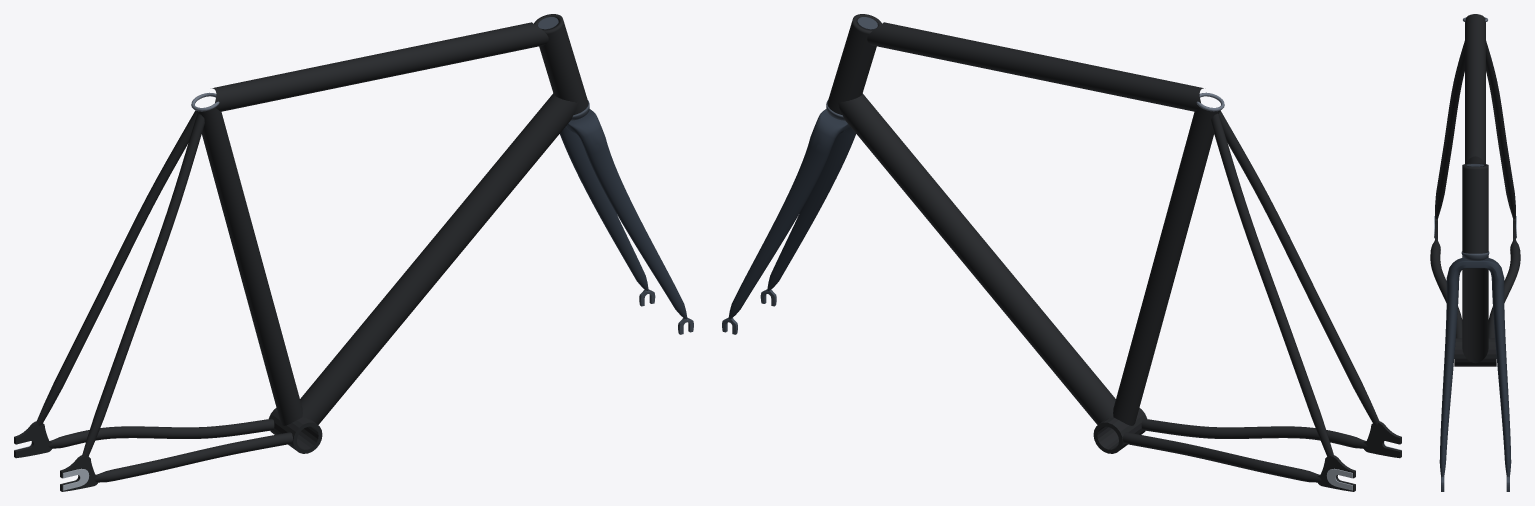
Rendered from dosnoventa-02-la-m.glb.
3 renders of one model, left to right at view 1: azimuth 30°, elevation 25°; view 2: azimuth 150°, elevation 25°; view 3: azimuth 270°, elevation 25°, orthographic. The views are drawn at different scales.
Parts seen in each view (by area): view 1: paint_down, paint_top, paint_seat, paint_seatstay_1, paint_seatstay_-1, fork_blade_1, fork_blade_-1, paint_chainstay_-1, paint_head, paint_chainstay_1, paint_bottom_bracket, rear_dropout_-1 (+1 smaller); view 2: paint_down, paint_top, paint_seat, paint_seatstay_-1, paint_seatstay_1, fork_blade_-1, fork_blade_1, paint_chainstay_1, paint_head, paint_chainstay_-1, paint_bottom_bracket, rear_dropout_1 (+1 smaller); view 3: paint_top, paint_down, paint_head, fork_blade_1, fork_blade_-1, paint_seatstay_-1, paint_seatstay_1, fork_crown, paint_chainstay_-1, paint_chainstay_1, paint_bottom_bracket, fork_headset_lower.
Part boxes in pixels (box(x1,y1,x2,y2)): paint_down: box(300, 93, 577, 424); paint_top: box(212, 22, 548, 111); paint_seat: box(195, 107, 302, 425); paint_seatstay_1: box(82, 113, 204, 456); paint_seatstay_-1: box(36, 111, 197, 425); fork_blade_1: box(584, 137, 687, 319); fork_blade_-1: box(560, 127, 648, 290); paint_chainstay_-1: box(48, 418, 274, 448); paint_head: box(534, 14, 588, 114); paint_chainstay_1: box(94, 432, 292, 482); paint_bottom_bracket: box(268, 408, 322, 453); rear_dropout_-1: box(14, 421, 52, 458); paint_down: box(838, 93, 1115, 424); paint_top: box(867, 22, 1203, 111); paint_seat: box(1113, 107, 1220, 425); paint_seatstay_-1: box(1211, 113, 1333, 456); paint_seatstay_1: box(1218, 111, 1379, 425); fork_blade_-1: box(728, 137, 831, 319); fork_blade_1: box(767, 127, 855, 290); paint_chainstay_1: box(1141, 418, 1367, 448); paint_head: box(827, 14, 881, 114); paint_chainstay_-1: box(1123, 432, 1321, 482); paint_bottom_bracket: box(1093, 408, 1147, 453); rear_dropout_1: box(1363, 421, 1401, 458); paint_top: box(1465, 14, 1485, 163); paint_down: box(1462, 256, 1488, 363); paint_head: box(1462, 163, 1488, 253); fork_blade_1: box(1439, 278, 1459, 476); fork_blade_-1: box(1491, 278, 1511, 476); paint_seatstay_-1: box(1486, 41, 1515, 219); paint_seatstay_1: box(1435, 41, 1464, 218); fork_crown: box(1446, 258, 1504, 279); paint_chainstay_-1: box(1488, 239, 1520, 338); paint_chainstay_1: box(1430, 239, 1462, 338); paint_bottom_bracket: box(1454, 338, 1496, 366); fork_headset_lower: box(1461, 251, 1489, 260).
Size of the model in its own units: 0.9954 by 0.5611 by 0.1443.
